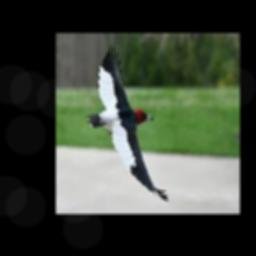Woodpecker: (86, 45, 168, 201)
